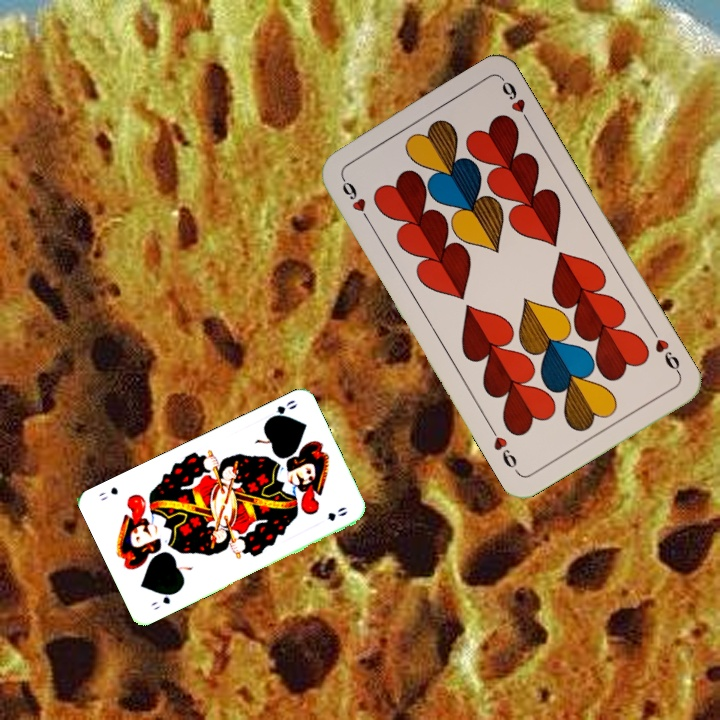GO: (263, 396, 300, 424), (147, 587, 181, 612)
H9: (647, 325, 684, 378), (337, 172, 373, 226)
